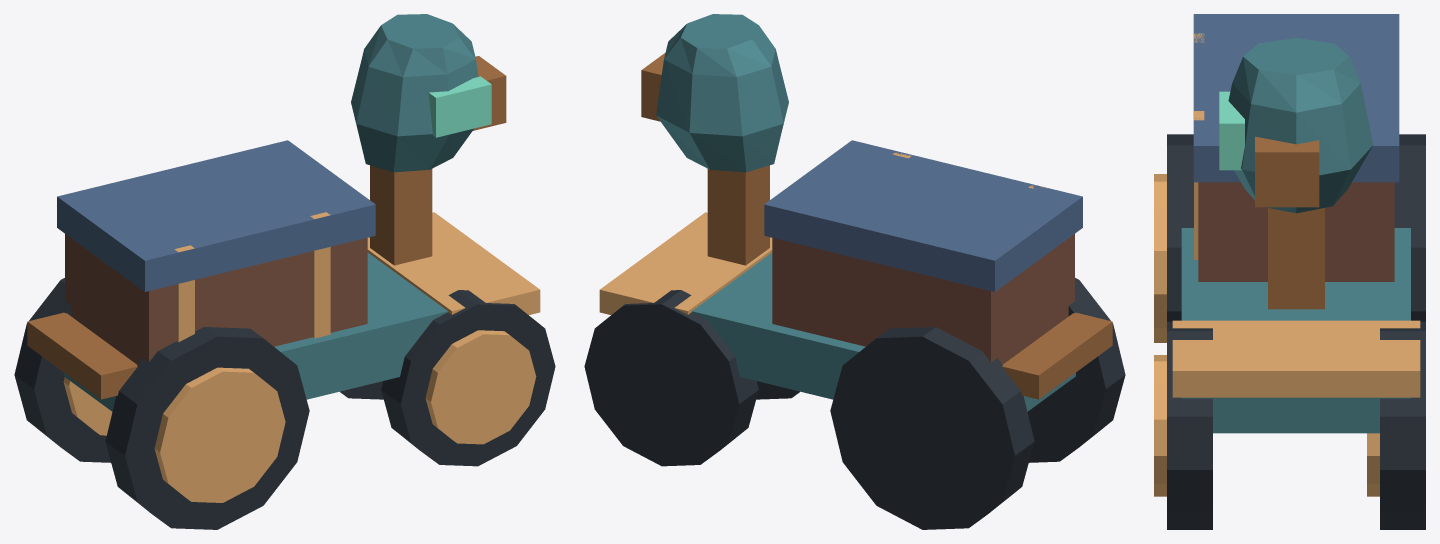
File: parcel-meka-model.obj
3 renders of one model, left to right at view 1: azimuth 30°, elevation 25°; view 2: azimuth 150°, elevation 25°; view 3: azimuth 270°, elevation 25°, orthographic. The views are drawn at different scales.
Visible parts, largest first — view 1: ParcelMeka; view 2: ParcelMeka; view 3: ParcelMeka.
Part boxes in pixels (x1,y1,x2,y2): ParcelMeka: [14, 14, 555, 529]; ParcelMeka: [584, 14, 1125, 529]; ParcelMeka: [1154, 14, 1425, 529].
Bounding box in the file's own units: 3.21 × 2.78 × 1.48.
